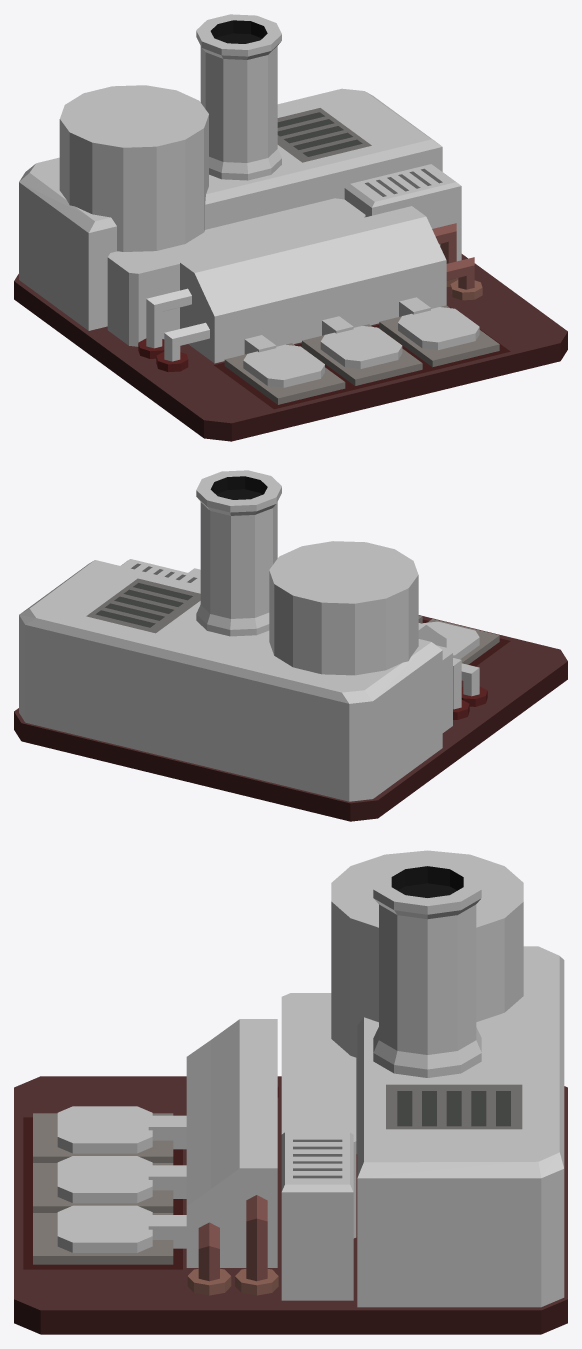
File: vce_refinery.obj
The picture shows the model from 3 angles, top to bottom: view 1: azimuth 30°, elevation 25°; view 2: azimuth 150°, elevation 25°; view 3: azimuth 270°, elevation 25°; orthographic projection. The views are drawn at different scales.
Size of the model in its own units: 2.92 by 1.95 by 2.92.
